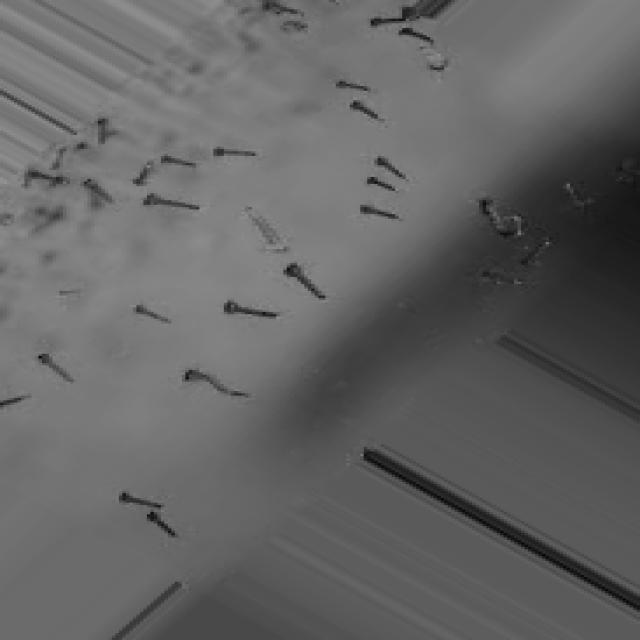larvas: (186, 368, 249, 402), (481, 199, 528, 235), (286, 264, 328, 299), (41, 352, 76, 386), (224, 302, 277, 322), (131, 304, 173, 329), (146, 194, 199, 212), (376, 152, 410, 180), (120, 492, 170, 510), (372, 8, 418, 27), (0, 386, 33, 411), (31, 206, 65, 230), (482, 266, 524, 285), (352, 100, 384, 124), (563, 182, 590, 210), (110, 127, 144, 147), (85, 180, 113, 204), (522, 240, 549, 264), (395, 28, 435, 44), (24, 170, 65, 185), (367, 176, 404, 192), (264, 4, 304, 18), (214, 146, 258, 158), (150, 513, 173, 535), (132, 162, 152, 185), (358, 206, 398, 216), (339, 78, 369, 91), (282, 22, 309, 34), (51, 145, 65, 167), (164, 157, 194, 167), (97, 117, 107, 145)
